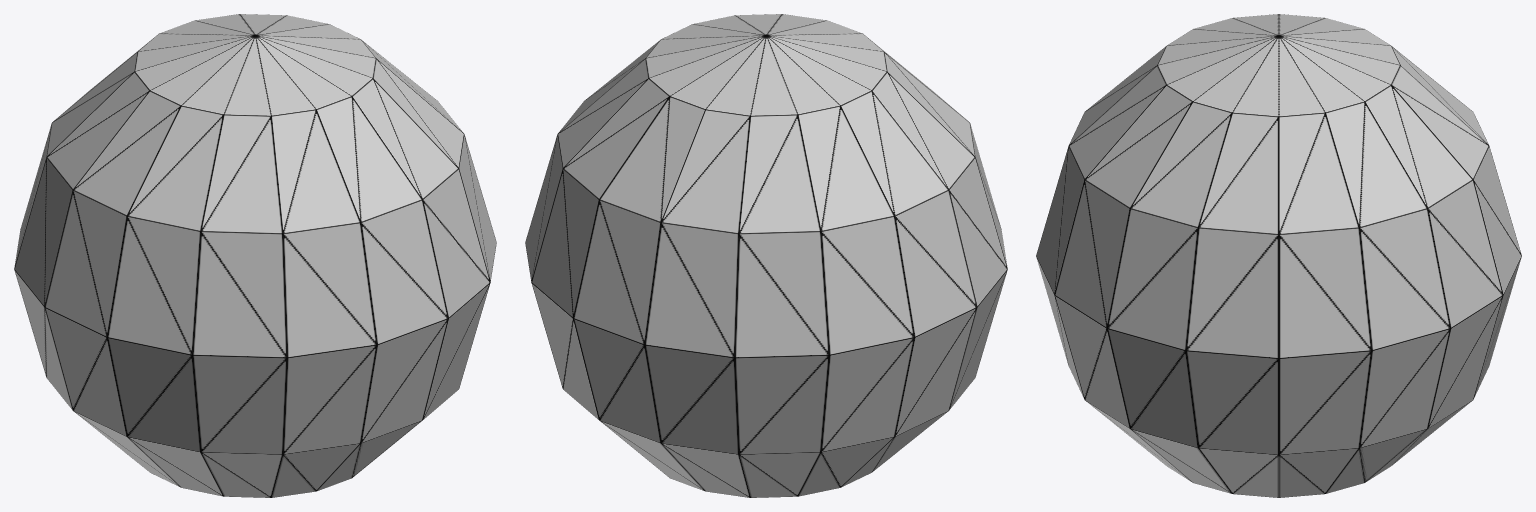
The model's file is firearmBall.obj.
3 views of the same model, side by side, from view 1: azimuth 30°, elevation 25°; view 2: azimuth 150°, elevation 25°; view 3: azimuth 270°, elevation 25° (orthographic).
Visible parts, largest first — view 1: testMusketBall; view 2: testMusketBall; view 3: testMusketBall.
Part boxes in pixels (x1,y1,x2,y2): testMusketBall: [14, 14, 496, 497]; testMusketBall: [525, 14, 1007, 497]; testMusketBall: [1036, 14, 1521, 497].
Bounding box in the file's own units: 0.516 × 0.516 × 0.516.
Materials: 1 (1 with a texture image).
